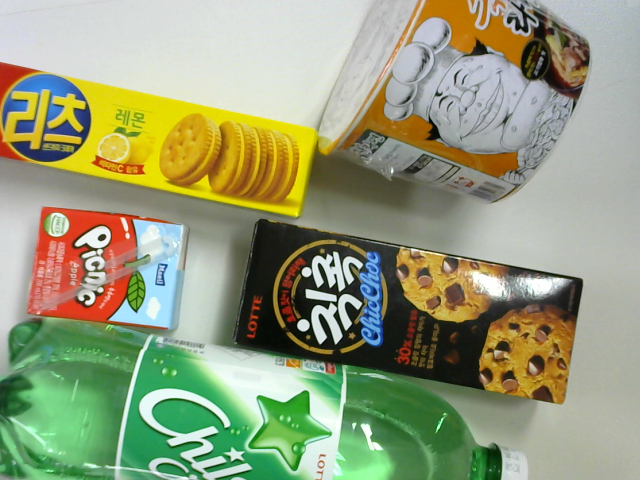Chicchok_Original_2400: (226, 216, 586, 409)
Chilseong_Cider_1.5L: (1, 319, 534, 480)
Hejangchan: (308, 1, 602, 210)
Picnic_Apple: (16, 200, 206, 339)
Ritz_Remon_96g: (1, 53, 328, 221)
